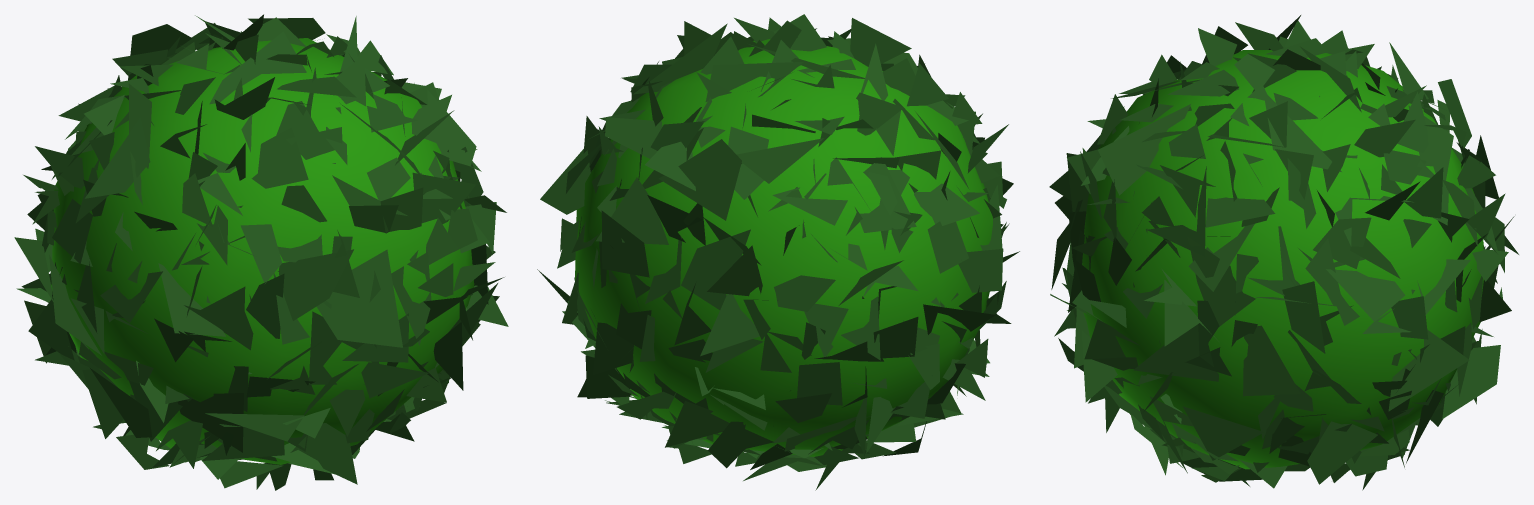
Rendered from arbusto.fbx.
The picture shows the model from 3 angles, left to right: view 1: azimuth 30°, elevation 25°; view 2: azimuth 150°, elevation 25°; view 3: azimuth 270°, elevation 25°; orthographic projection.
Visible parts, largest first — view 1: Cube.001; view 2: Cube.001; view 3: Cube.001.
Boxes of the visible parts, left/top/right/bottom form: Cube.001: left=14, top=14, right=508, bottom=490; Cube.001: left=537, top=14, right=1019, bottom=490; Cube.001: left=1049, top=15, right=1518, bottom=490.
Bounding box in the file's own units: 191 × 194 × 191.
